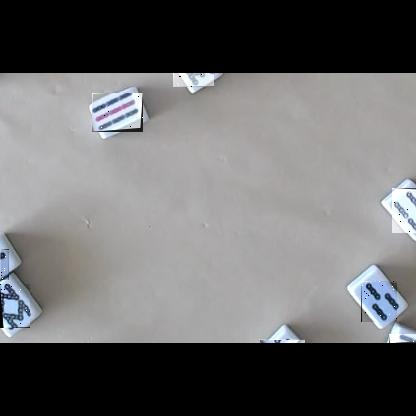2s: (0, 249, 9, 280)
3s: (361, 281, 397, 322)
4s: (392, 188, 416, 233), (259, 339, 305, 343)
7s: (389, 334, 416, 343)
8s: (0, 284, 30, 328), (173, 73, 214, 87)
9s: (92, 93, 143, 132)
